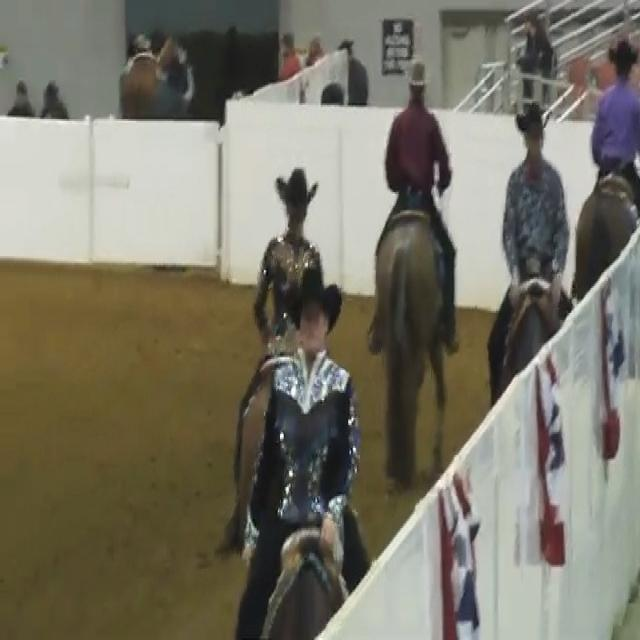horse: (338, 30, 474, 482)
